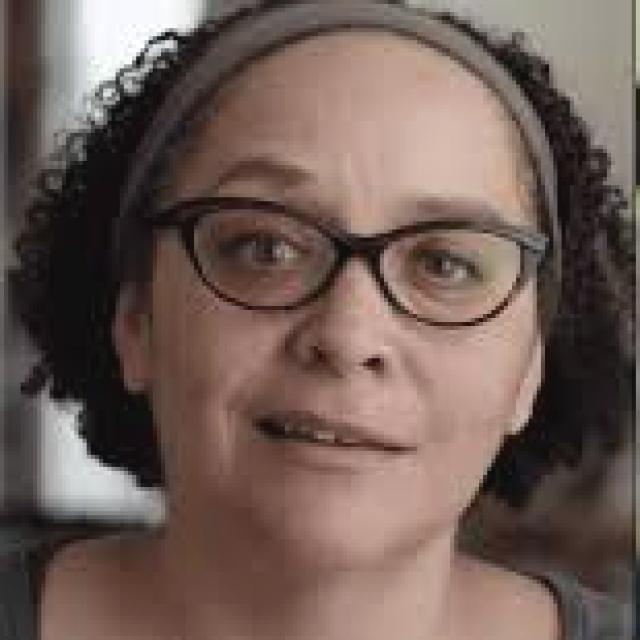stroke_face: (112, 3, 556, 564)
